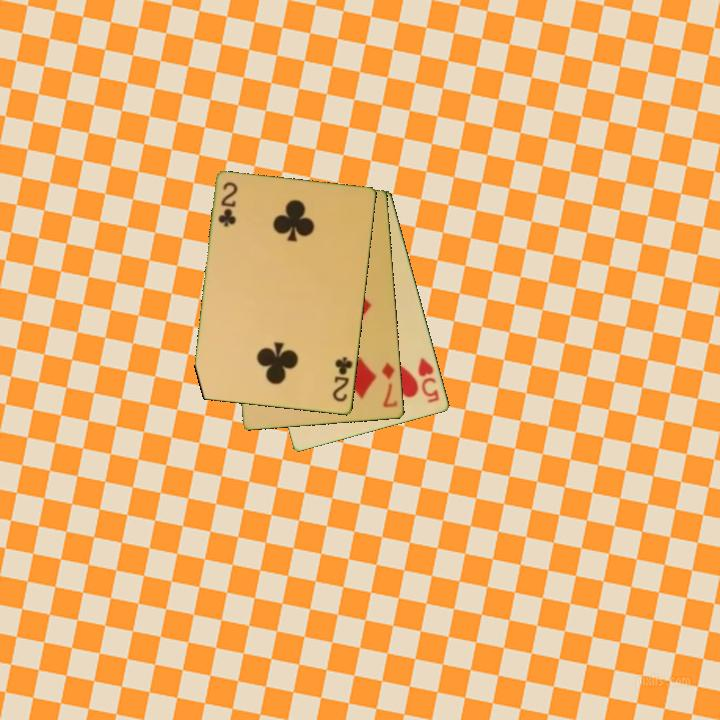2c: (329, 353, 356, 405), (215, 179, 241, 230)
5h: (415, 354, 442, 406)
7d: (378, 359, 401, 411)
